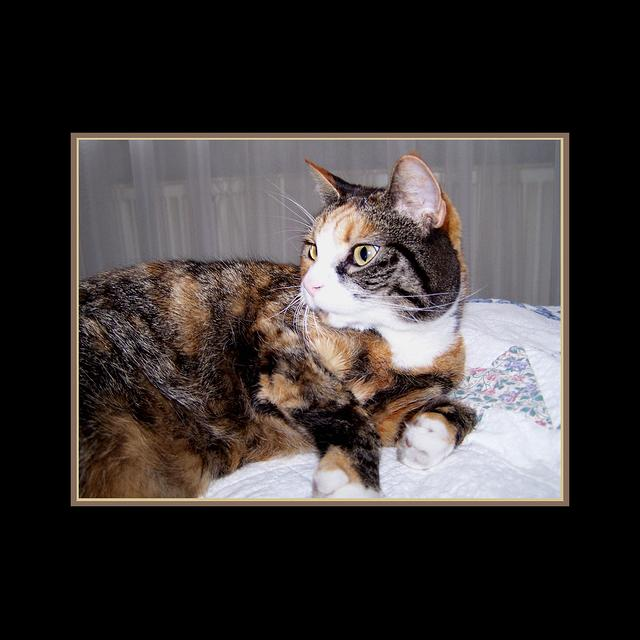animals: (305, 156, 435, 296)
